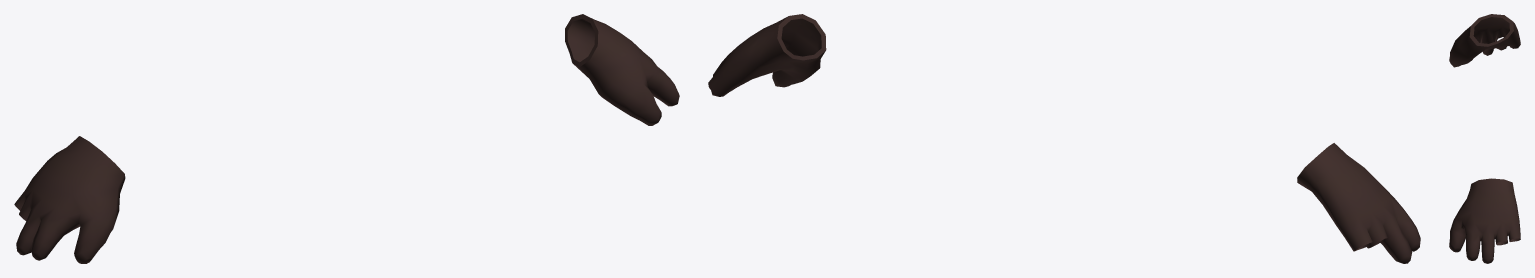
File: Gloves_07.glb
The picture shows the model from 3 angles, left to right: view 1: azimuth 30°, elevation 25°; view 2: azimuth 150°, elevation 25°; view 3: azimuth 270°, elevation 25°; orthographic projection. The views are drawn at different scales.
Visible parts, largest first — view 1: Gloves_07; view 2: Gloves_07; view 3: Gloves_07.
Boxes of the visible parts, box(x1,y1,x2,y2) form: Gloves_07: box(14, 14, 679, 263); Gloves_07: box(708, 14, 1420, 263); Gloves_07: box(1449, 14, 1520, 263).
Size of the model in its own units: 0.8285 by 0.1151 by 0.1179.
Materials: 1 (1 with a texture image).
